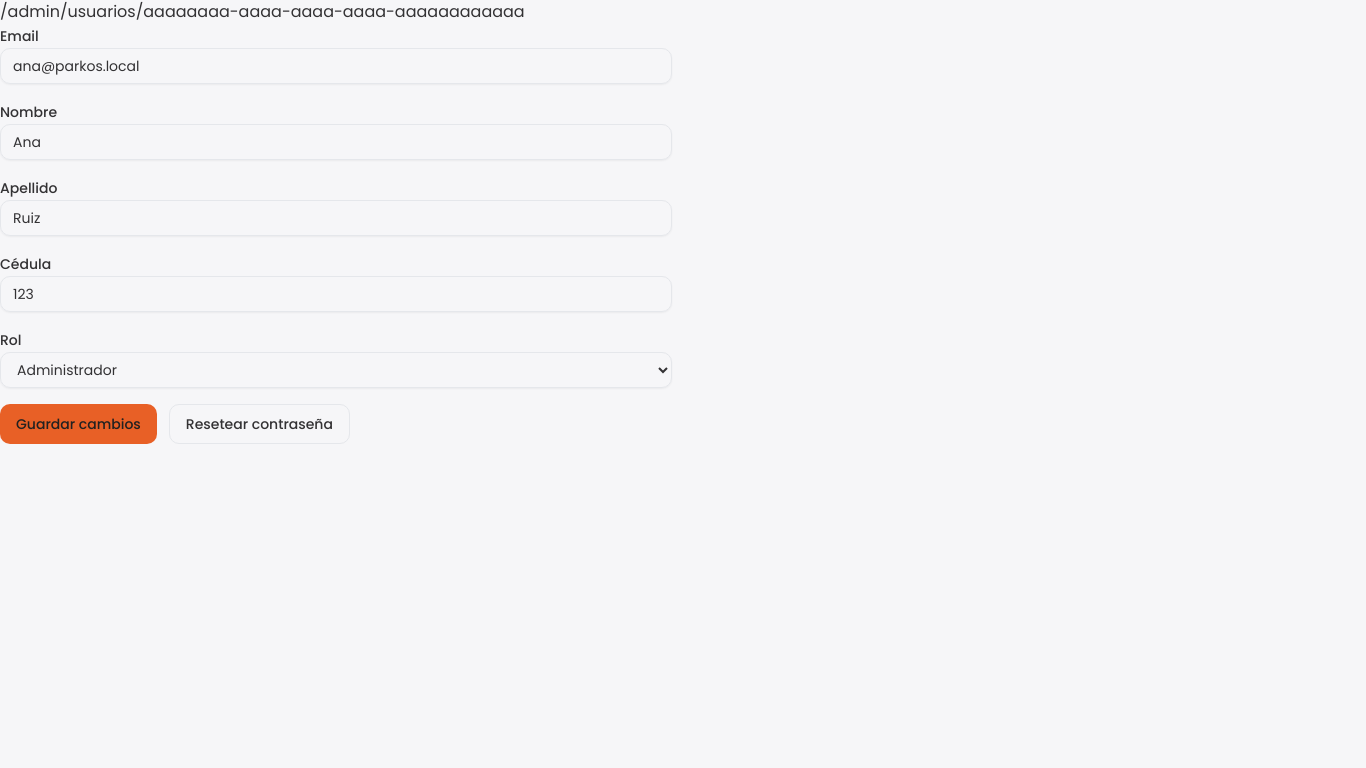
Test: UsuarioForm — reset de contraseña › cierra el dialog al confirmar
This screenshot has width=1366, height=768.
What coordinates should you click on to do the following:
click the button with test id "reset-password-btn"
I would click on:
 (259, 424)
Its box is x1=169 y1=404 x2=350 y2=444.
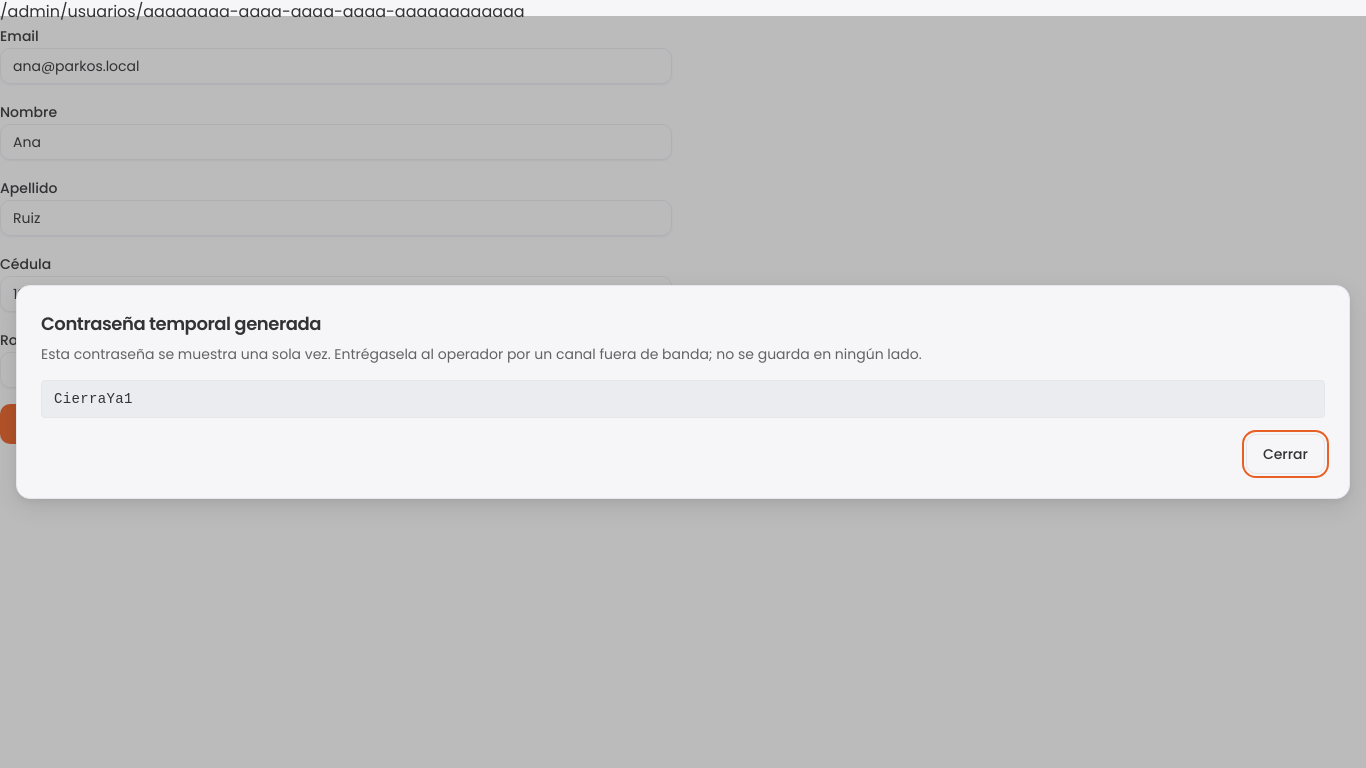
expect the element with test id "temp-password-dialog" is shown: met, box x1=16 y1=285 x2=1350 y2=499
What coordinates should you click on to do the following:
click the button with test id "temp-password-close"
I would click on:
 (1285, 454)
Its box is x1=1246 y1=434 x2=1325 y2=474.
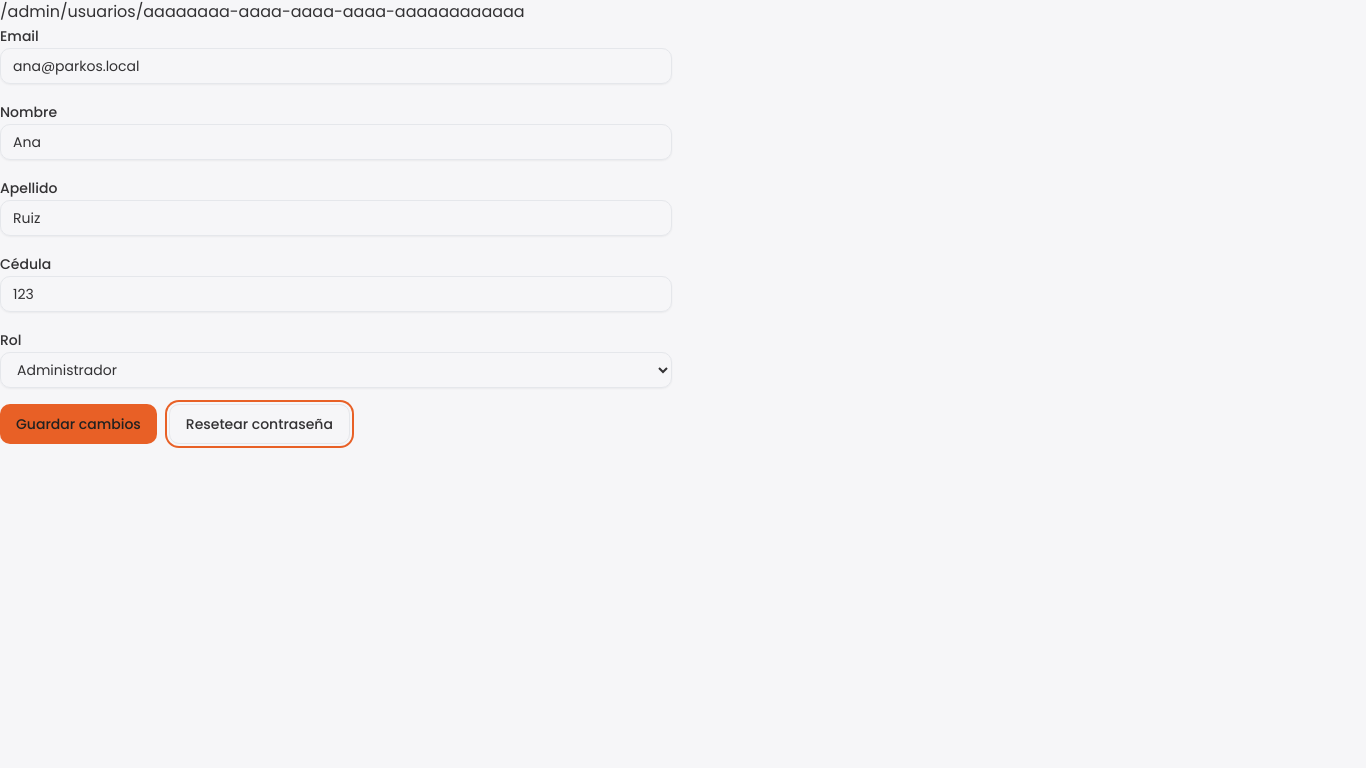
expect the element with test id "temp-password-dialog" is gone: met
